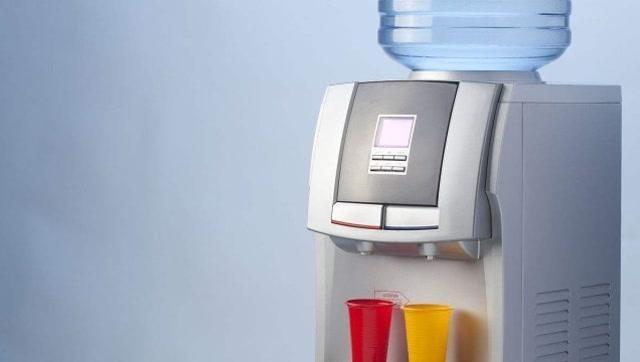Dispenser: (305, 0, 622, 359)
